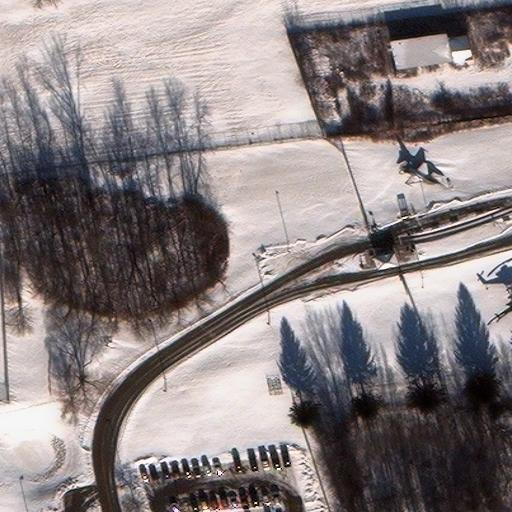Military Fighter: (405, 162, 443, 186)
